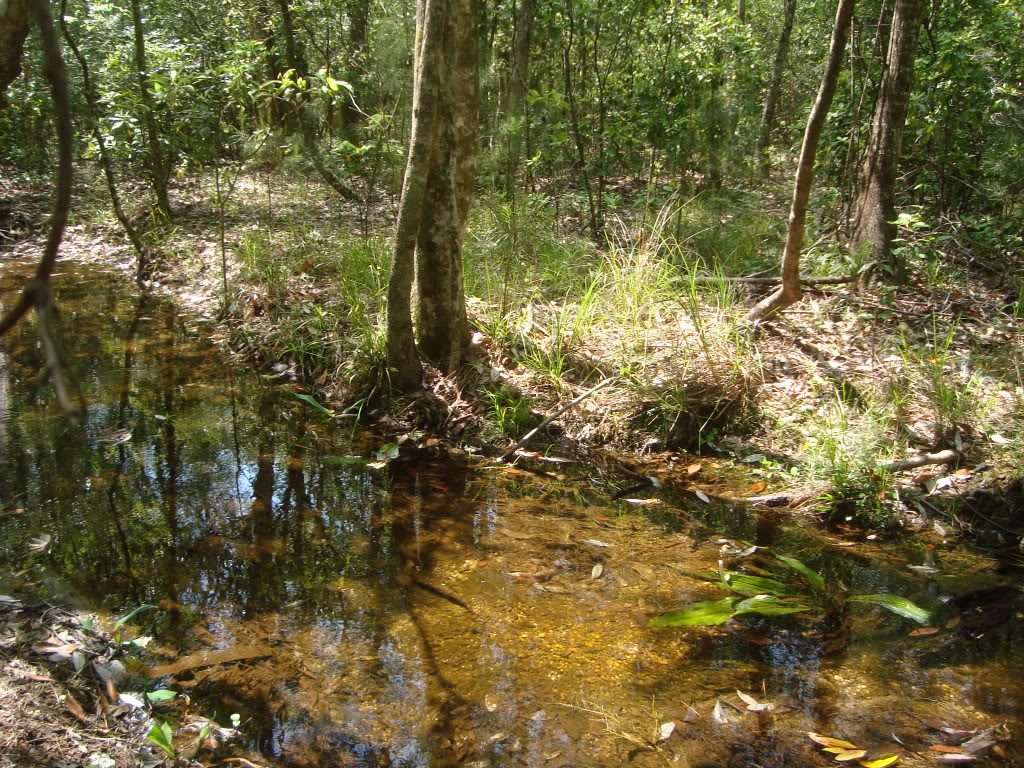tree: (339, 1, 513, 394), (779, 1, 863, 324), (858, 1, 942, 324)
vegetation: (601, 285, 1016, 471)
water: (1, 249, 1024, 768)
